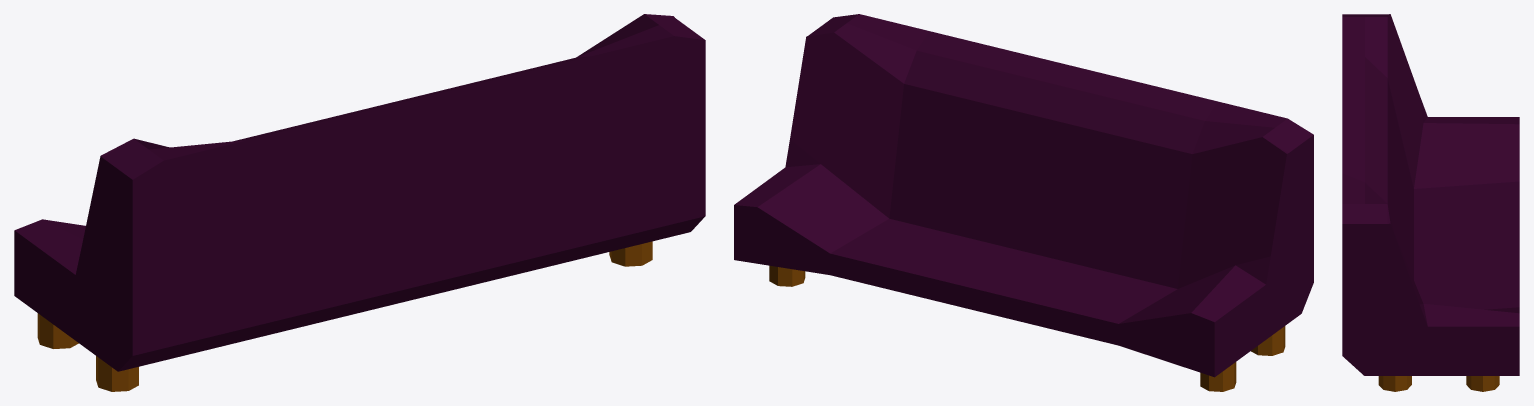
Rendered from Sofa.fbx.
3 views of the same model, side by side, from view 1: azimuth 30°, elevation 25°; view 2: azimuth 150°, elevation 25°; view 3: azimuth 270°, elevation 25° (orthographic). The views are drawn at different scales.
Parts seen in each view (by area): view 1: Sofa; view 2: Sofa; view 3: Sofa.
Boxes of the visible parts, x1,y1,x2,y2 form: Sofa: (14,14,705,391); Sofa: (734,14,1313,391); Sofa: (1342,14,1519,391).
Size of the model in its own units: 559 by 229 by 200.
